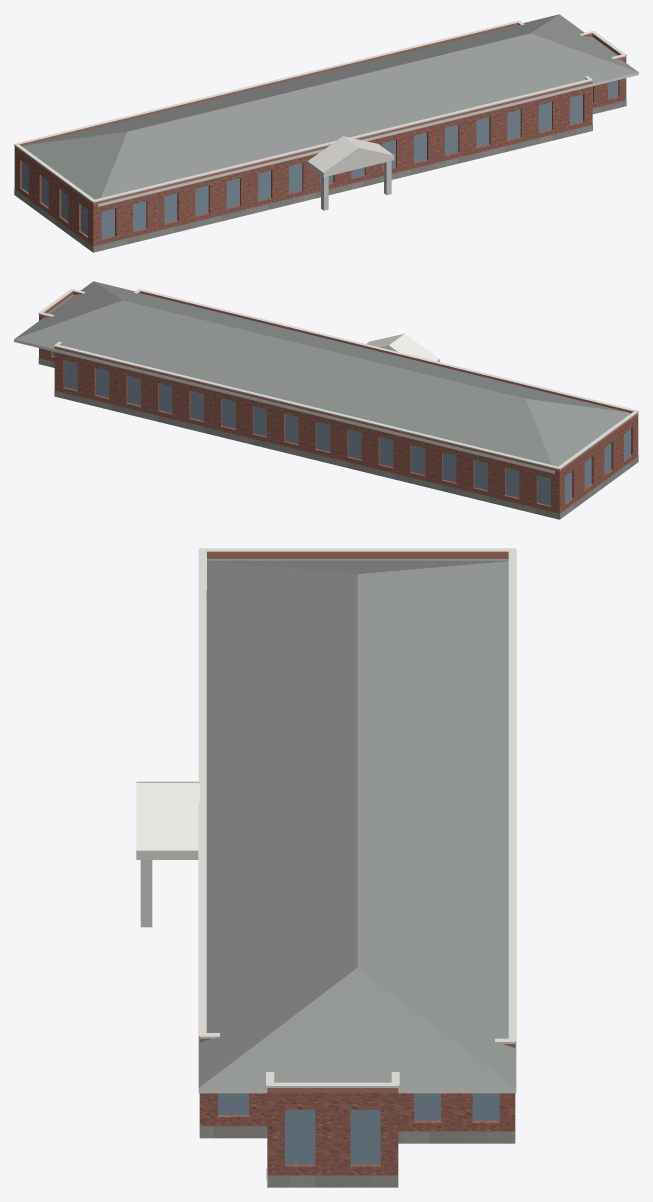
3 renders of one model, top to bottom at view 1: azimuth 30°, elevation 25°; view 2: azimuth 150°, elevation 25°; view 3: azimuth 270°, elevation 25°, orthographic. The views are drawn at different scales.
Parts seen in each view (by area): view 1: museum__roof, museum__wall, museum__trim, museum__glass, museum__base, museum__parapet, museum__column; view 2: museum__roof, museum__wall, museum__glass, museum__trim, museum__base, museum__parapet; view 3: museum__roof, museum__trim, museum__wall, museum__glass, museum__base, museum__parapet, museum__column.
Part boxes in pixels (<box>): museum__roof: <box>22,14,638,204</box>; museum__wall: <box>14,59,626,252</box>; museum__trim: <box>14,20,638,206</box>; museum__glass: <box>22,80,618,238</box>; museum__base: <box>14,100,626,252</box>; museum__parapet: <box>14,23,626,204</box>; museum__column: <box>321,161,391,210</box>; museum__roof: <box>14,281,630,471</box>; museum__wall: <box>39,316,638,519</box>; museum__glass: <box>52,351,630,505</box>; museum__trim: <box>14,289,638,473</box>; museum__base: <box>38,358,638,519</box>; museum__parapet: <box>39,291,638,471</box>; museum__roof: <box>198,559,516,1088</box>; museum__trim: <box>136,548,516,1093</box>; museum__wall: <box>199,1092,515,1175</box>; museum__glass: <box>218,1093,499,1164</box>; museum__base: <box>199,1126,515,1187</box>; museum__parapet: <box>199,551,515,1092</box>; museum__column: <box>140,860,152,927</box>.
Size of the model in its own units: 56.05 by 7.22 by 16.76.
8 materials, 2 textured.
